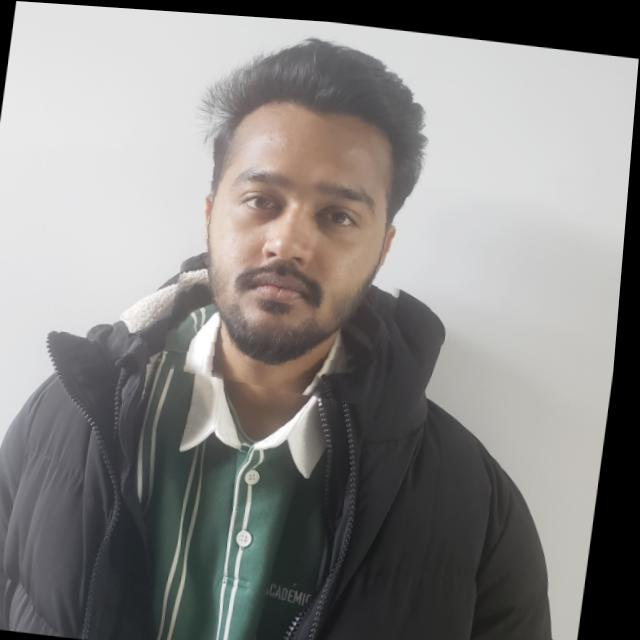sad: (170, 23, 443, 402)
